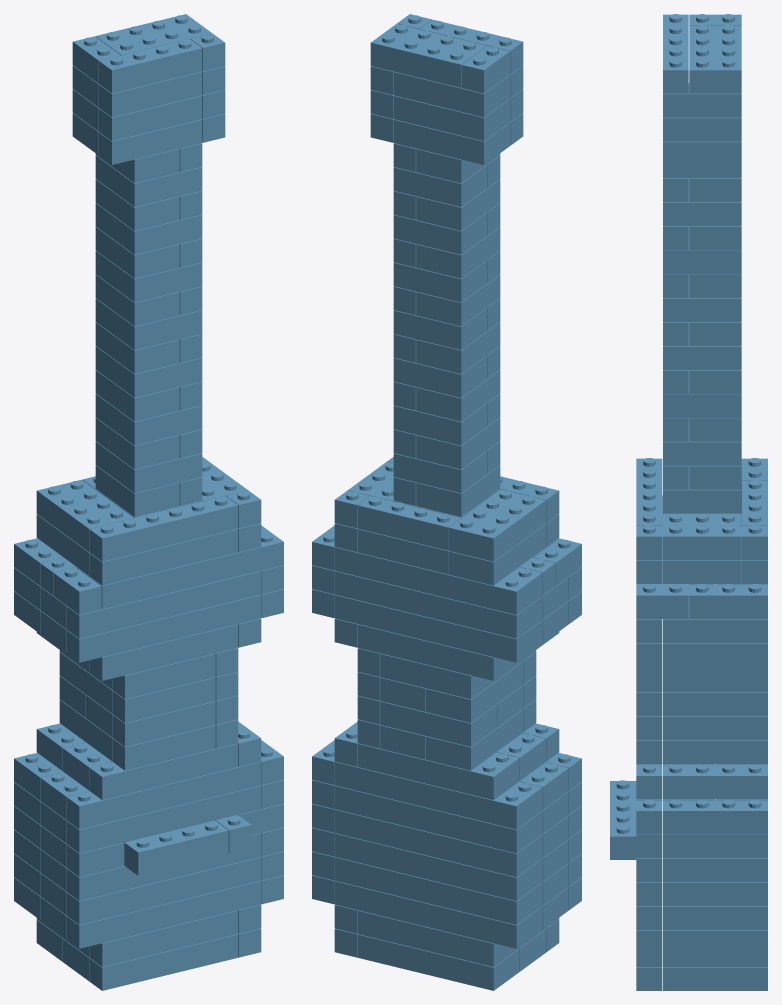
Rendered from 164_guitar_L4.glb.
The picture shows the model from 3 angles, left to right: view 1: azimuth 30°, elevation 25°; view 2: azimuth 150°, elevation 25°; view 3: azimuth 270°, elevation 25°; orthographic projection.
Bounding box in the file's own units: 8.98 × 38.13 × 5.98.
